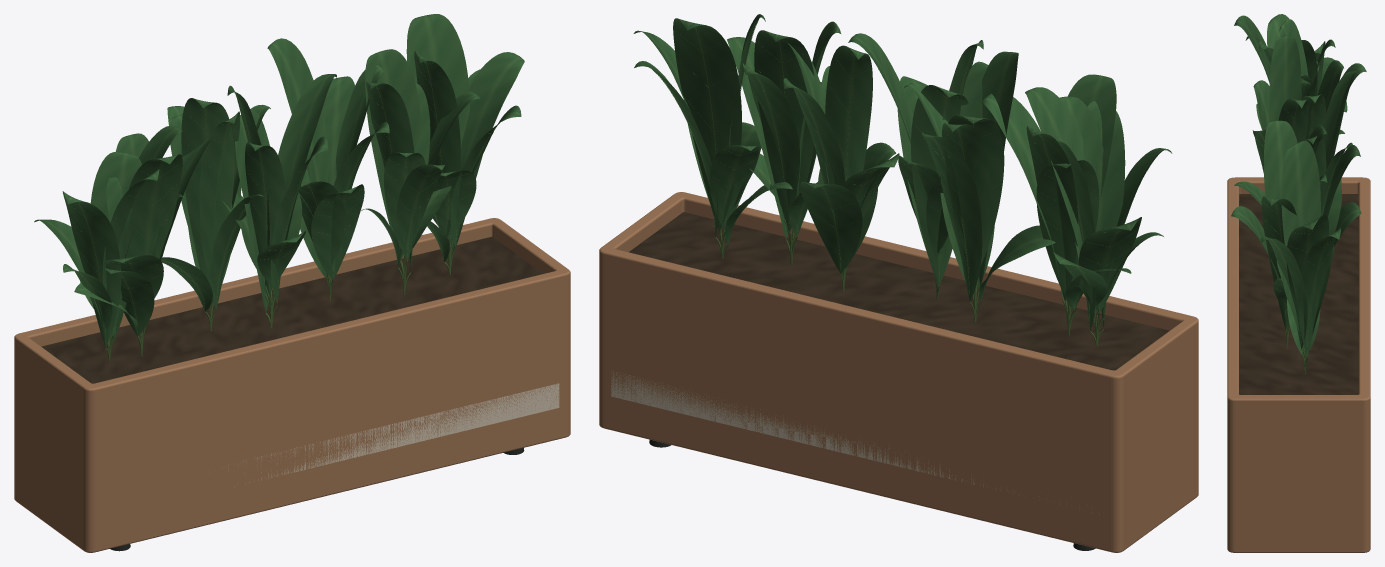
The model's file is separator-3.glb.
3 renders of one model, left to right at view 1: azimuth 30°, elevation 25°; view 2: azimuth 150°, elevation 25°; view 3: azimuth 270°, elevation 25°, orthographic. The views are drawn at different scales.
Parts seen in each view (by area): view 1: Planter_oiled_oak, Planter_foliage, Planter_loose_soil, Planter_matte_accent, Planter_leaf_veins, Planter_petioles; view 2: Planter_oiled_oak, Planter_foliage, Planter_loose_soil, Planter_matte_accent, Planter_leaf_veins, Planter_petioles; view 3: Planter_oiled_oak, Planter_foliage, Planter_loose_soil, Planter_leaf_veins, Planter_inner_liner.
Part boxes in pixels (bbox=[...]): Planter_oiled_oak: bbox=[14, 218, 570, 552]; Planter_foliage: bbox=[34, 14, 524, 347]; Planter_loose_soil: bbox=[41, 236, 542, 383]; Planter_matte_accent: bbox=[228, 383, 559, 486]; Planter_leaf_veins: bbox=[36, 18, 523, 341]; Planter_petioles: bbox=[105, 238, 455, 361]; Planter_oiled_oak: bbox=[599, 192, 1198, 552]; Planter_foliage: bbox=[633, 14, 1172, 330]; Planter_loose_soil: bbox=[629, 212, 1169, 370]; Planter_matte_accent: bbox=[611, 371, 1099, 514]; Planter_leaf_veins: bbox=[635, 20, 1170, 323]; Planter_petioles: bbox=[715, 220, 1104, 345]; Planter_oiled_oak: bbox=[1227, 177, 1370, 552]; Planter_foliage: bbox=[1231, 14, 1366, 357]; Planter_loose_soil: bbox=[1239, 194, 1358, 394]; Planter_leaf_veins: bbox=[1235, 27, 1357, 352]; Planter_inner_liner: bbox=[1239, 201, 1358, 394].
Size of the model in its own units: 1.1 by 0.9 by 0.3.
